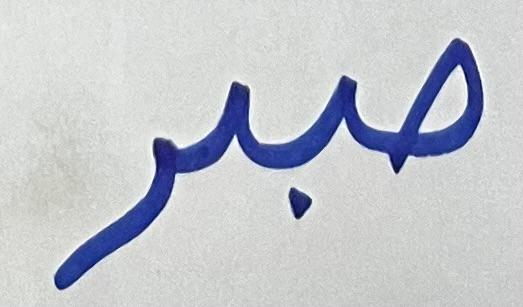character: (46, 130, 212, 292), (222, 44, 358, 235), (363, 29, 500, 180)
